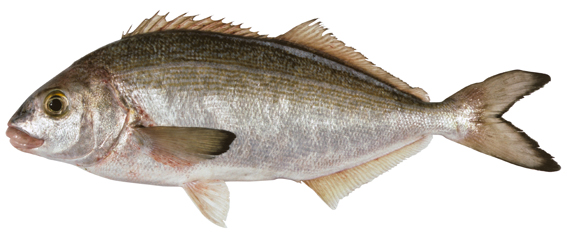fish: (5, 9, 562, 228)
